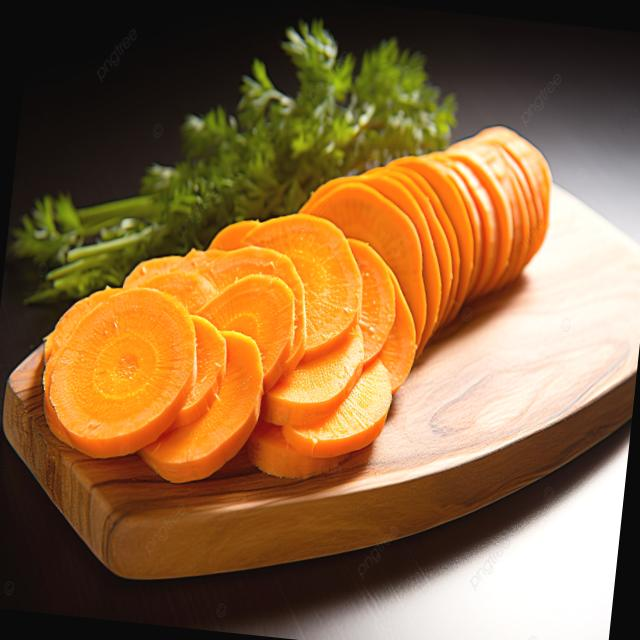ca rot: (42, 127, 551, 481)
